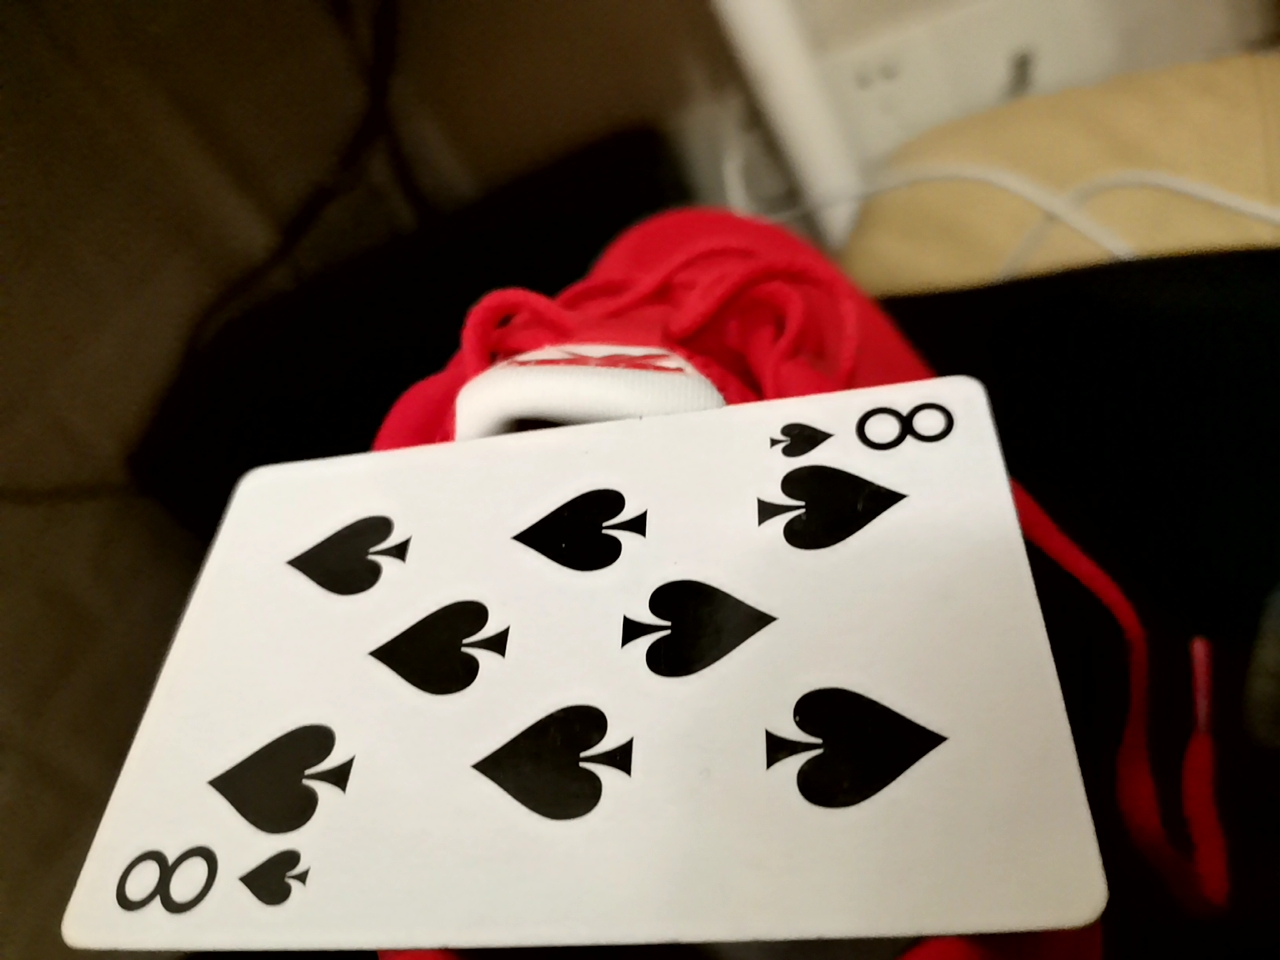ht 8: (47, 352, 1115, 923)
